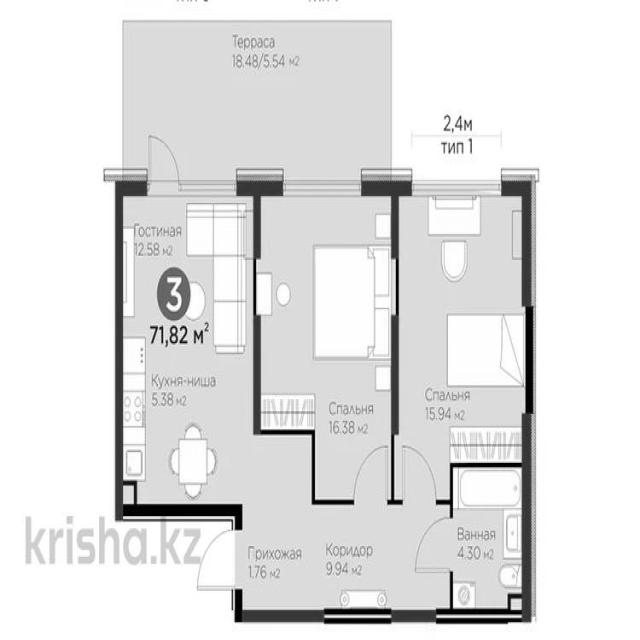balcony: (124, 23, 390, 184)
bathroom: (450, 462, 528, 611)
hallway: (324, 505, 453, 612), (239, 504, 325, 613)
living_room: (392, 190, 530, 468), (257, 187, 395, 442)
studio: (118, 189, 256, 511)
